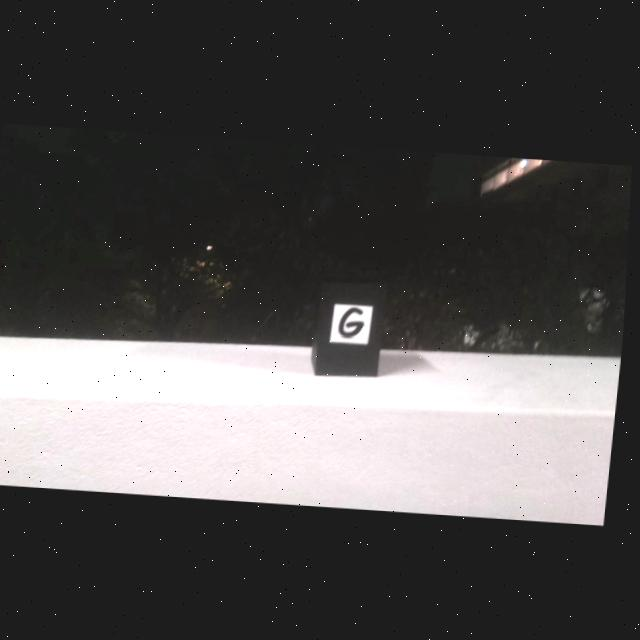G: (343, 307, 367, 336)
